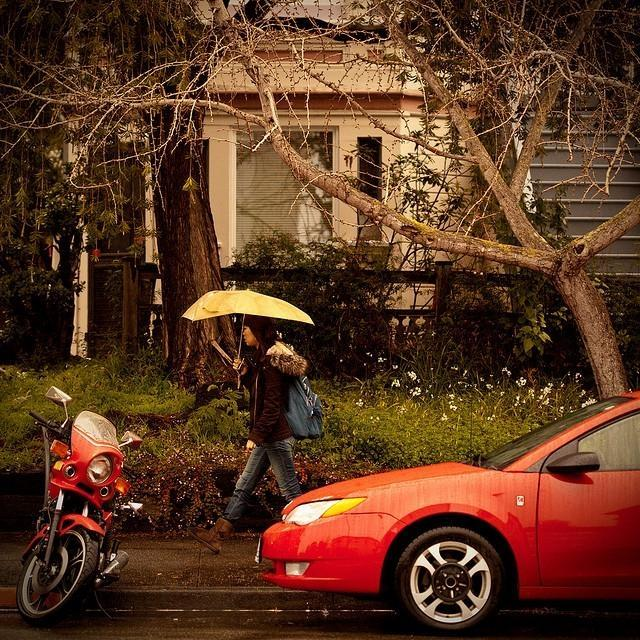car: (258, 388, 639, 620)
motorcycle: (20, 381, 134, 621)
